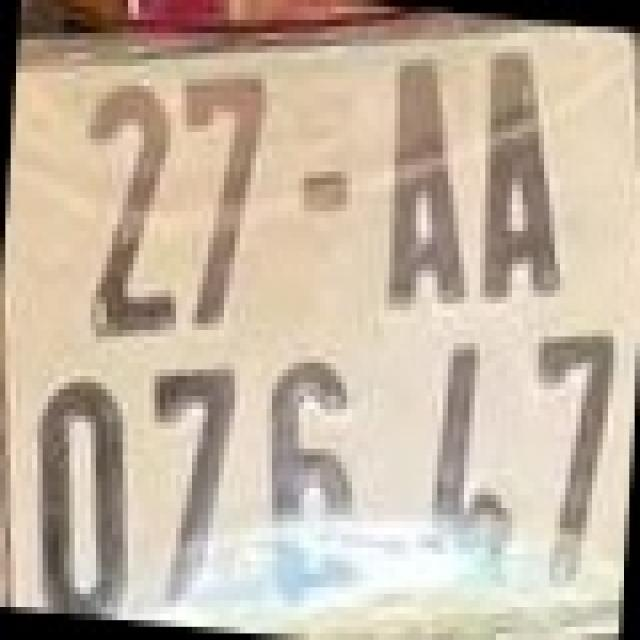0: (32, 370, 134, 600)
2: (80, 72, 182, 336)
4: (416, 337, 518, 580)
6: (261, 350, 363, 600)
7: (144, 356, 240, 607), (181, 66, 272, 330), (534, 323, 614, 588)
A: (474, 39, 570, 310), (374, 46, 469, 317)
